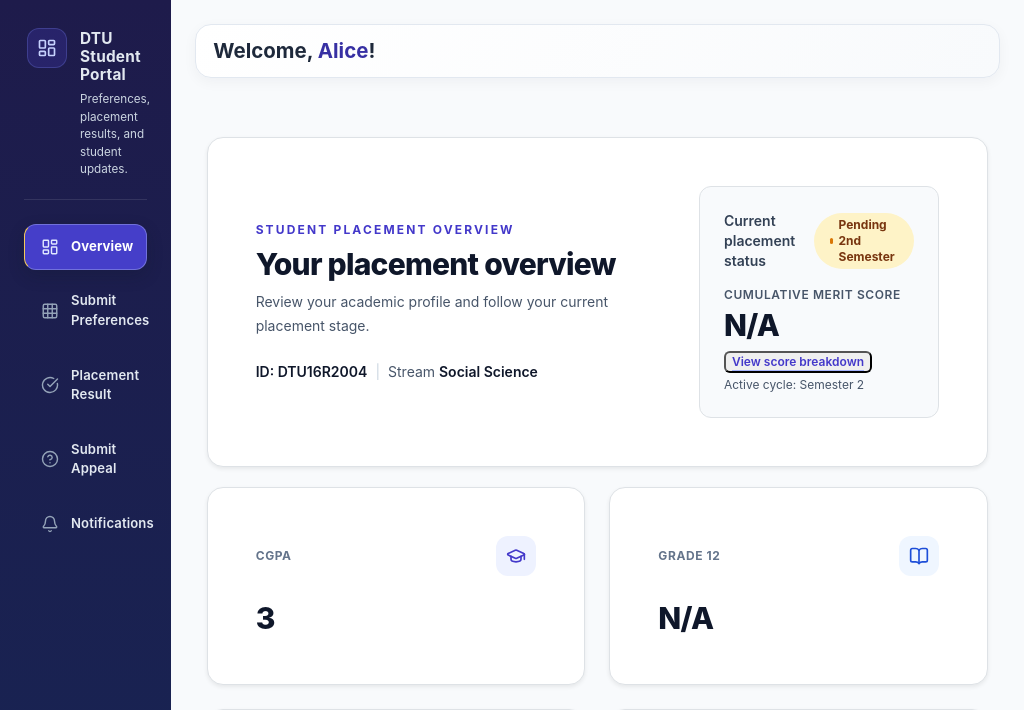
it: StudentDashboard › does not bypass a closed Registrar portal using a stale editability flag
Click the button "Submit Preferences" at (85, 311), box top-left (24, 278), bottom-right (147, 344)
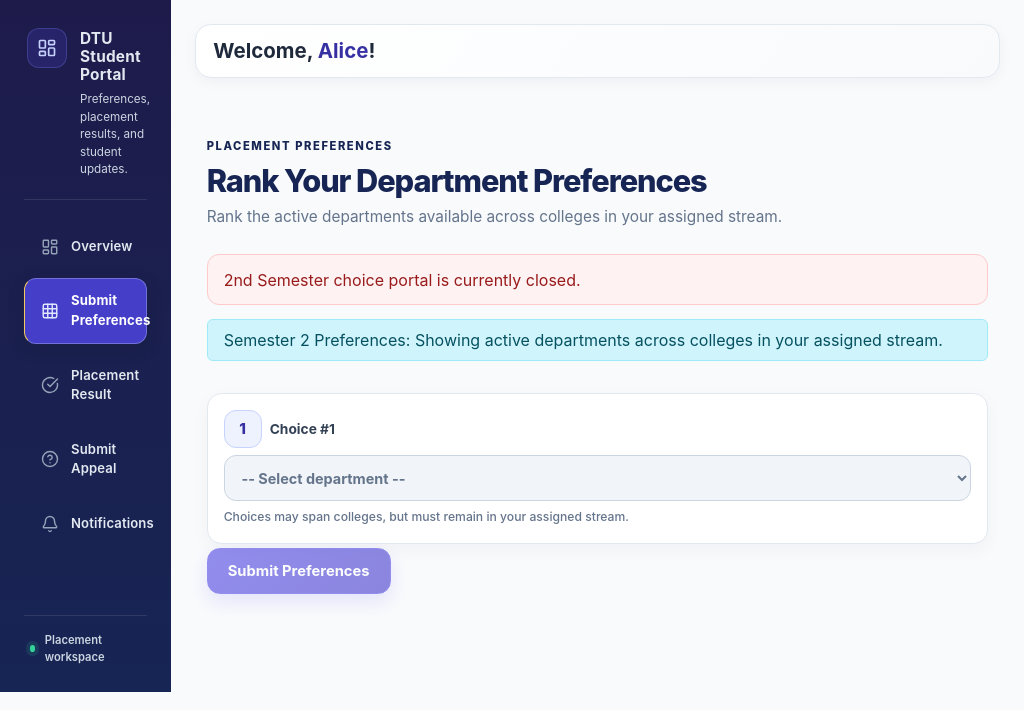
Now the text "2nd Semester choice portal is currently closed." is shown, box top-left (207, 254), bottom-right (988, 306)
Now the dropdown labelled "Choice #1" is disabled, box top-left (224, 455), bottom-right (971, 501)
Now the button with class "student-preferences-submit" is disabled, box top-left (207, 548), bottom-right (391, 594)
